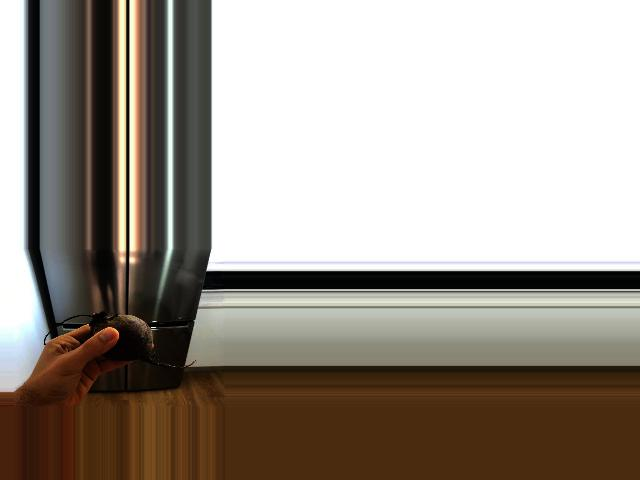beet: (44, 311, 197, 368)
